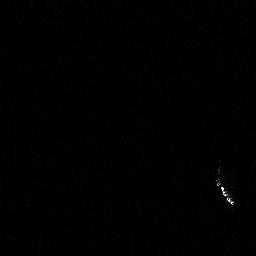ship: (216, 179, 235, 204)
